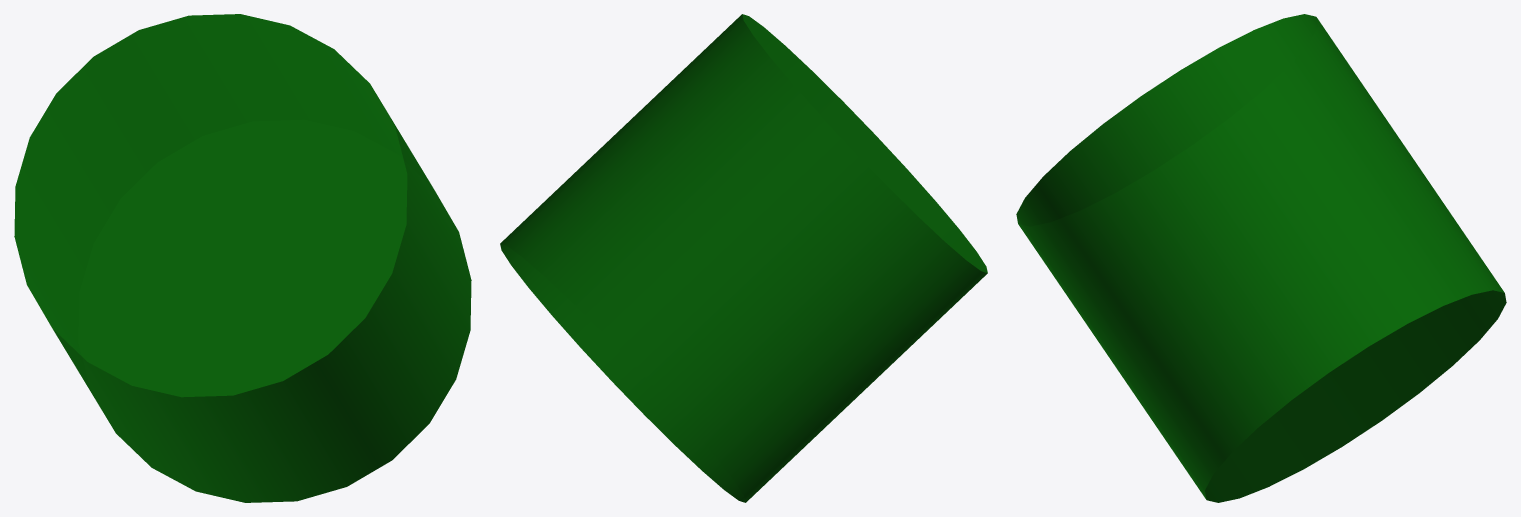
File: Event_421115418_jet_14.fbx
The picture shows the model from 3 angles, left to right: view 1: azimuth 30°, elevation 25°; view 2: azimuth 150°, elevation 25°; view 3: azimuth 270°, elevation 25°; orthographic projection. The views are drawn at different scales.
Parts seen in each view (by area): view 1: Model; view 2: Model; view 3: Model.
Boxes of the visible parts, x1=… form: Model: x1=14, y1=14, x2=471, y2=502; Model: x1=500, y1=14, x2=987, y2=502; Model: x1=1016, y1=14, x2=1506, y2=502.
Bounding box in the file's own units: 0.0536 × 0.0548 × 0.0539.
